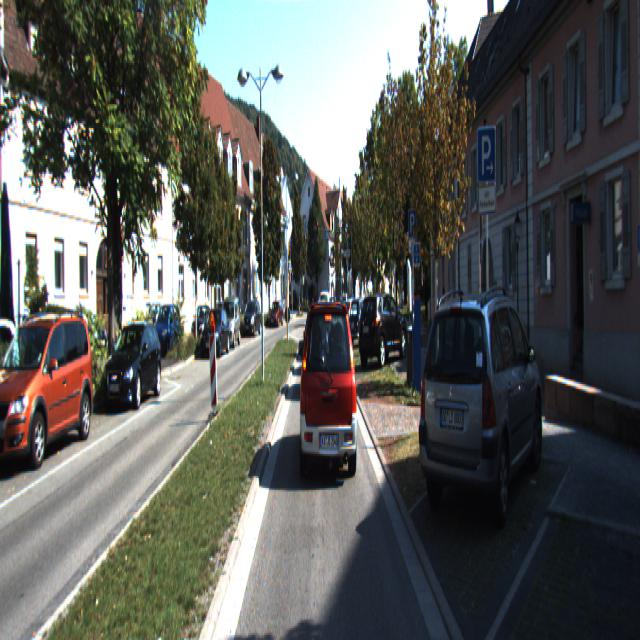Car: (419, 294, 547, 540), (0, 308, 97, 470), (300, 300, 360, 485), (103, 321, 164, 409), (357, 292, 409, 367), (0, 315, 24, 424), (150, 303, 182, 356), (347, 296, 380, 347), (200, 307, 230, 358), (339, 296, 369, 337), (220, 295, 241, 348), (243, 299, 263, 336), (267, 300, 286, 328)
